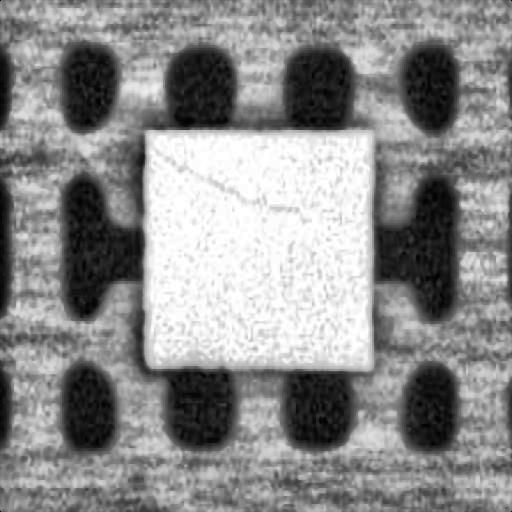DIE_CRACK: (151, 143, 303, 215)
